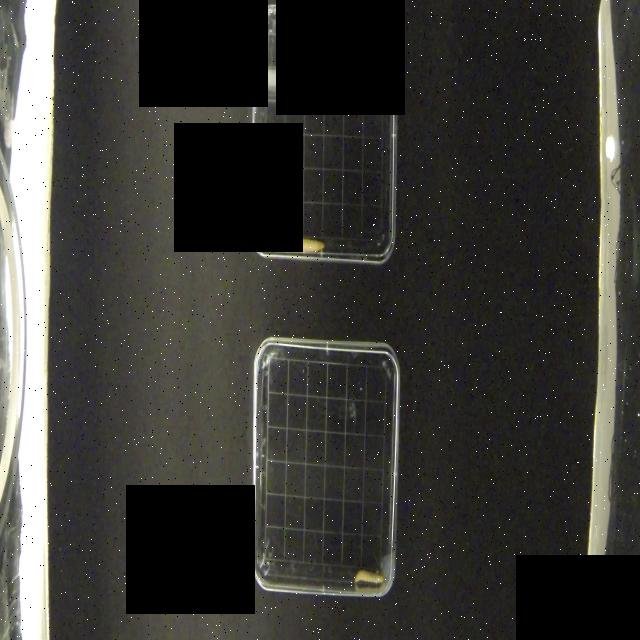larva: (353, 564, 386, 588), (289, 233, 325, 253)
